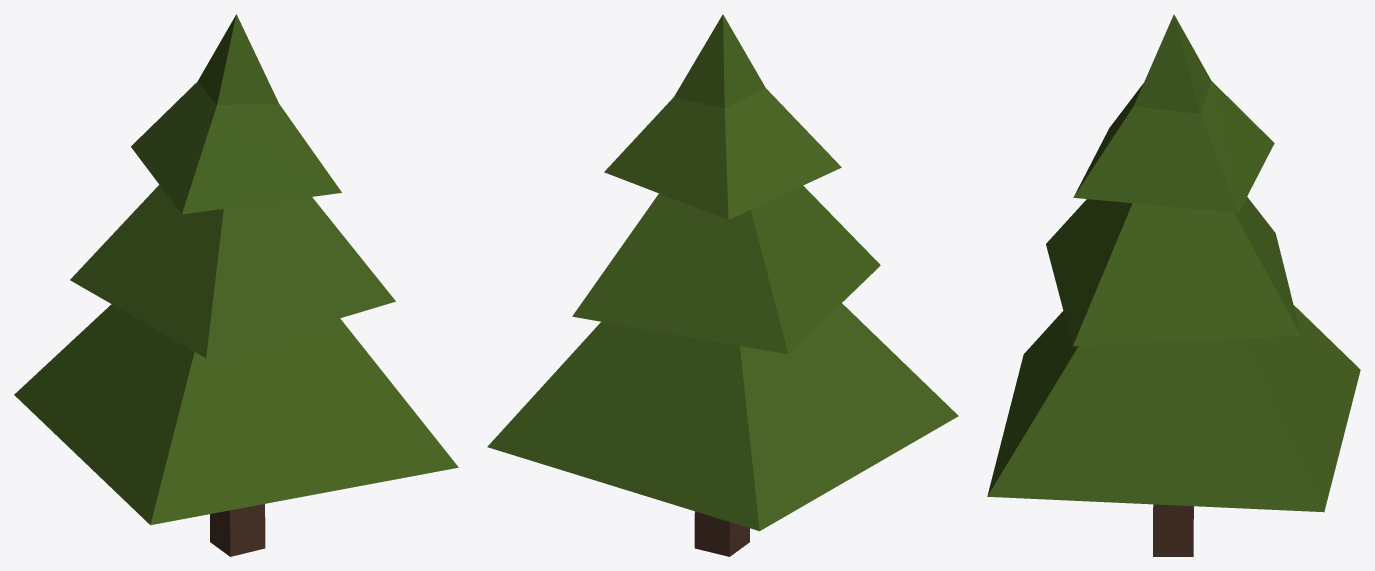
Rendered from tree.dae.
3 views of the same model, side by side, from view 1: azimuth 30°, elevation 25°; view 2: azimuth 150°, elevation 25°; view 3: azimuth 270°, elevation 25° (orthographic).
Visible parts, largest first — view 1: Cube_011; view 2: Cube_011; view 3: Cube_011.
Boxes of the visible parts, bbox=[...] form: Cube_011: bbox=[14, 14, 458, 556]; Cube_011: bbox=[487, 14, 958, 556]; Cube_011: bbox=[987, 14, 1360, 556].
Size of the model in its own units: 2.87 by 2.87 by 4.52.
